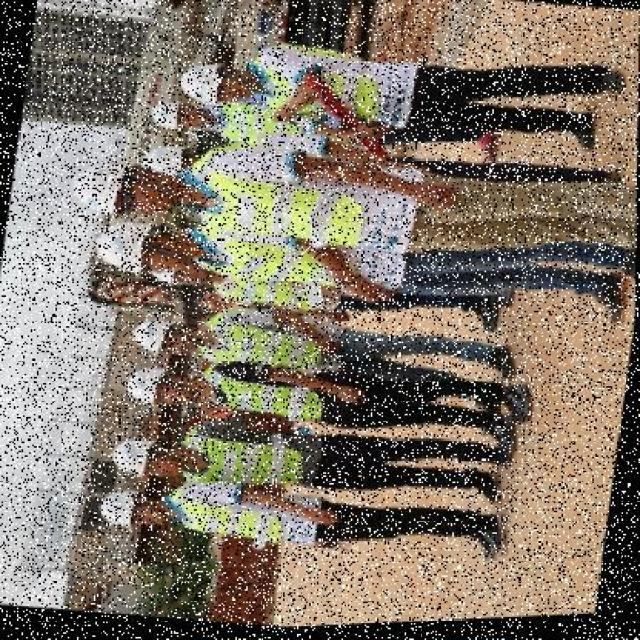helmet: (89, 211, 175, 285), (66, 152, 152, 222), (176, 57, 249, 112), (111, 432, 170, 485), (122, 362, 184, 412), (95, 482, 153, 535), (128, 312, 192, 360)
vest: (179, 141, 361, 247), (243, 42, 383, 127), (177, 223, 331, 290), (168, 486, 300, 548), (207, 310, 326, 377), (185, 431, 307, 492), (211, 372, 331, 424)
